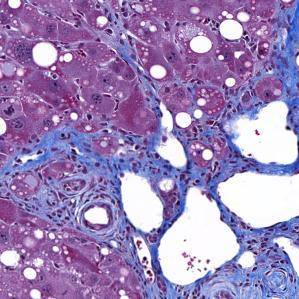fibrosis: (18, 129, 124, 241), (198, 241, 299, 298), (171, 119, 249, 183)
